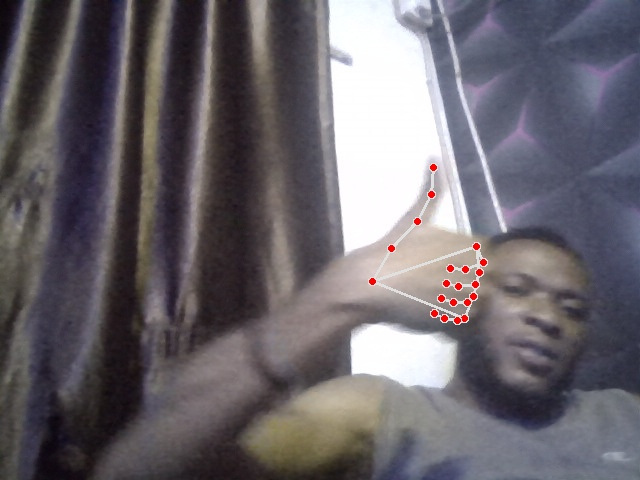thumbsup: (368, 160, 489, 330)
